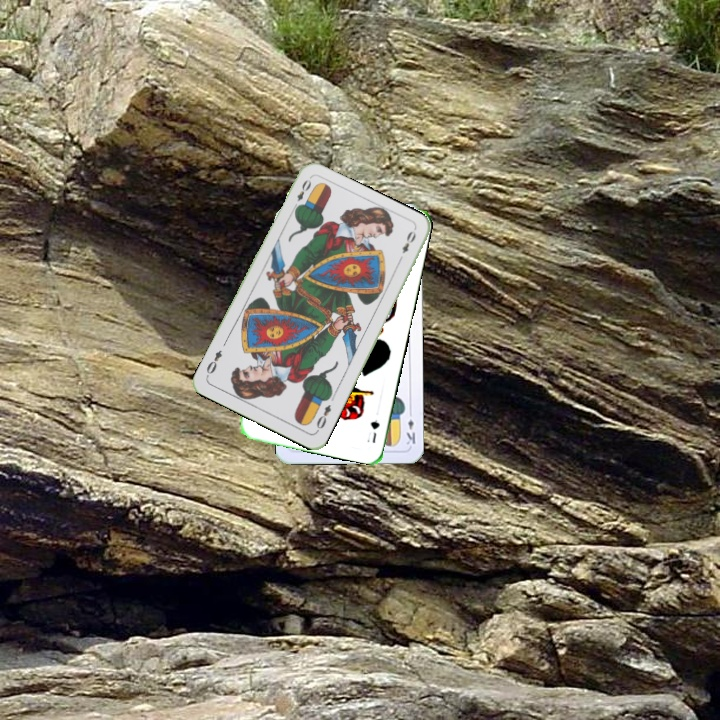EK: (403, 407, 418, 447)
EO: (289, 175, 314, 213), (312, 400, 334, 435)
GU: (363, 416, 382, 445)
